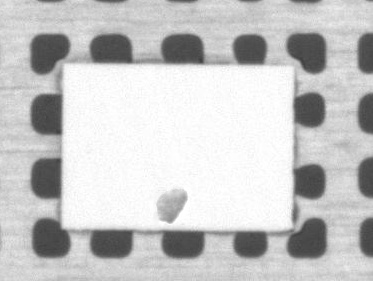DIE_INK: (153, 186, 188, 225)
